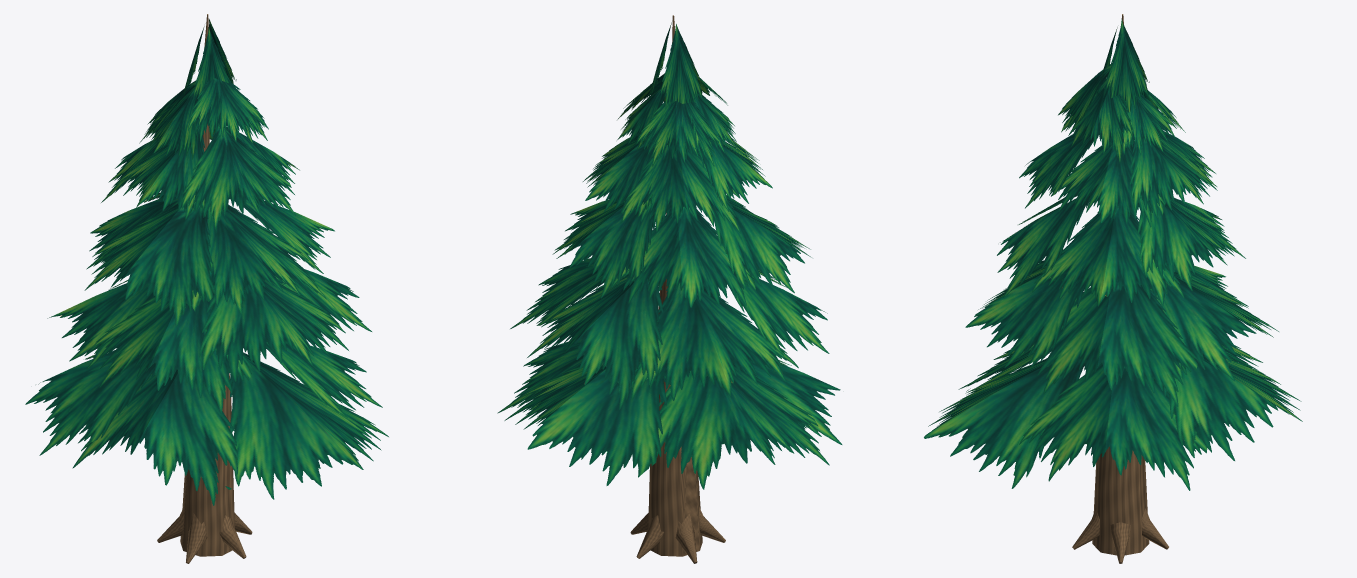
3 renders of one model, left to right at view 1: azimuth 30°, elevation 25°; view 2: azimuth 150°, elevation 25°; view 3: azimuth 270°, elevation 25°, orthographic.
Visible parts, largest first — view 1: Tapered harvest trunk; view 2: Tapered harvest trunk; view 3: Tapered harvest trunk.
Part boxes in pixels (x1,y1,x2,y2): Tapered harvest trunk: [25, 14, 388, 563]; Tapered harvest trunk: [497, 15, 842, 563]; Tapered harvest trunk: [924, 14, 1302, 563].
Bounding box in the file's own units: 8.37 × 12.31 × 9.28.
Materials: 3 (2 with a texture image).
